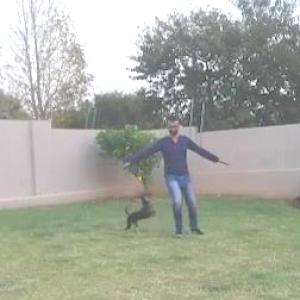land: (109, 115, 218, 243)
